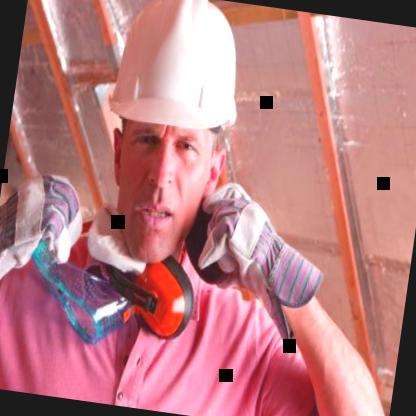helmet: (70, 0, 263, 292)
